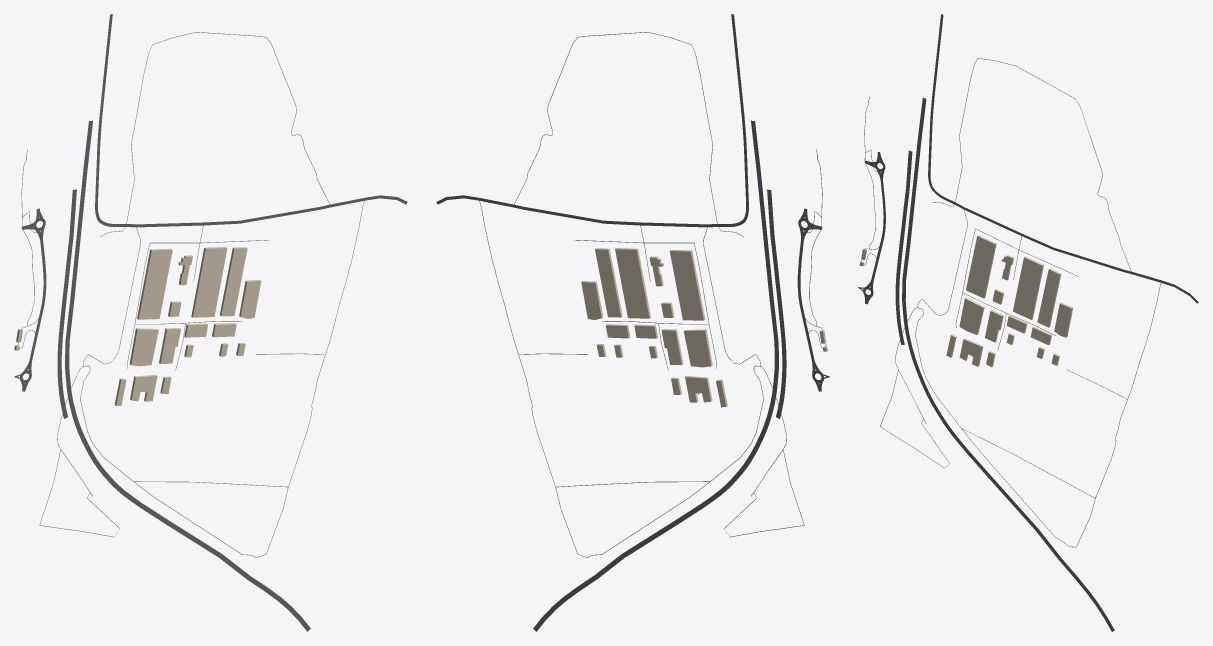
The model's file is historic-palestine-06_28_3483_3222.glb.
The picture shows the model from 3 angles, left to right: view 1: azimuth 30°, elevation 25°; view 2: azimuth 150°, elevation 25°; view 3: azimuth 330°, elevation 25°; orthographic projection. The views are drawn at different scales.
Parts seen in each view (by area): view 1: Road 5513, Road איילון צפון, Building_.001, Building_, Road איילון צפון.002, Building_.002, Road איילון דרום, Building_.011, Building_.012, Building_.013, Building_.005; view 2: Road 5513, Road איילון צפון, Building_.001, Building_, Road איילון צפון.002, Building_.002, Road איילון דרום, Building_.011, Building_.012, Building_.013, Building_.005; view 3: Road 5513, Road איילון צפון, Building_.001, Building_, Road איילון צפון.002, Building_.002, Road איילון דרום, Building_.011.
Boxes of the visible parts, x1,y1,x2,y2 form: Road 5513: (95,14,407,227); Road איילון צפון: (70,406,310,631); Building_.001: (191,247,227,317); Building_: (137,248,172,319); Road איילון צפון.002: (65,120,92,368); Building_.002: (220,247,247,316); Road איילון דרום: (57,189,76,381); Building_.011: (129,328,158,366); Building_.012: (239,279,261,318); Building_.013: (130,375,157,401); Building_.005: (159,328,180,363); Road 5513: (436,14,748,227); Road איילון צפון: (533,406,773,631); Building_.001: (615,248,650,318); Building_: (669,250,705,320); Road איילון צפון.002: (751,120,778,368); Building_.002: (595,248,622,317); Road איילון דרום: (767,189,786,381); Building_.011: (683,329,712,367); Building_.012: (581,281,603,319); Building_.013: (685,376,712,402); Building_.005: (661,329,683,365); Road 5513: (928,14,1198,303); Road איילון צפון: (906,338,1114,631); Building_.001: (1013,256,1043,319); Building_: (966,235,996,298); Road איילון צפון.002: (902,97,926,302); Building_.002: (1037,268,1061,327); Road איילון דרום: (895,150,912,310); Building_.011: (959,297,984,334).
Bounding box in the file's own units: 1107 × 1790 × 8.7.
